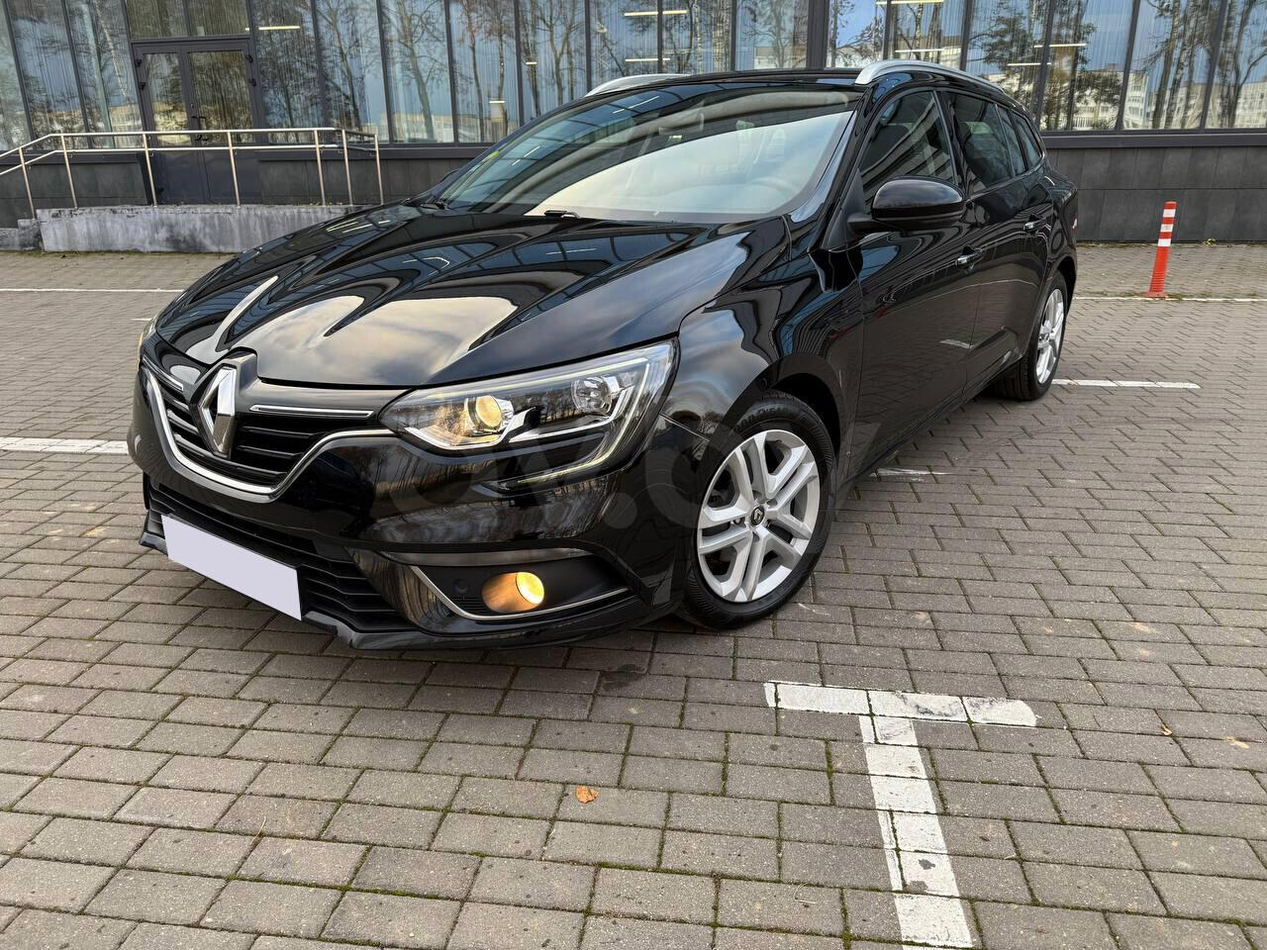Megane_2016-2020: (126, 52, 1080, 643)
